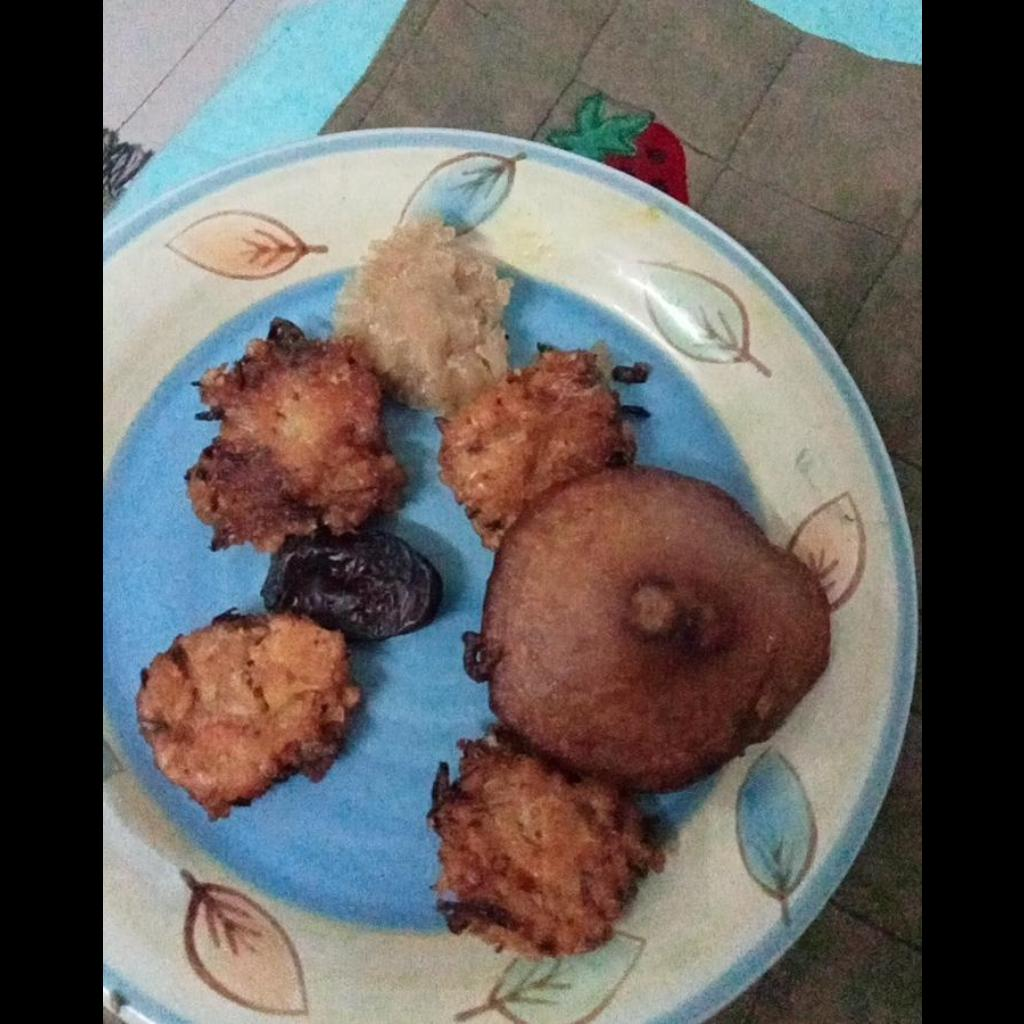chop-alu: (455, 467, 830, 795)
dates: (257, 531, 448, 640)
payesh: (326, 223, 520, 412)
piyaju: (427, 729, 663, 957), (185, 320, 404, 553), (136, 612, 359, 818), (439, 347, 633, 550)
